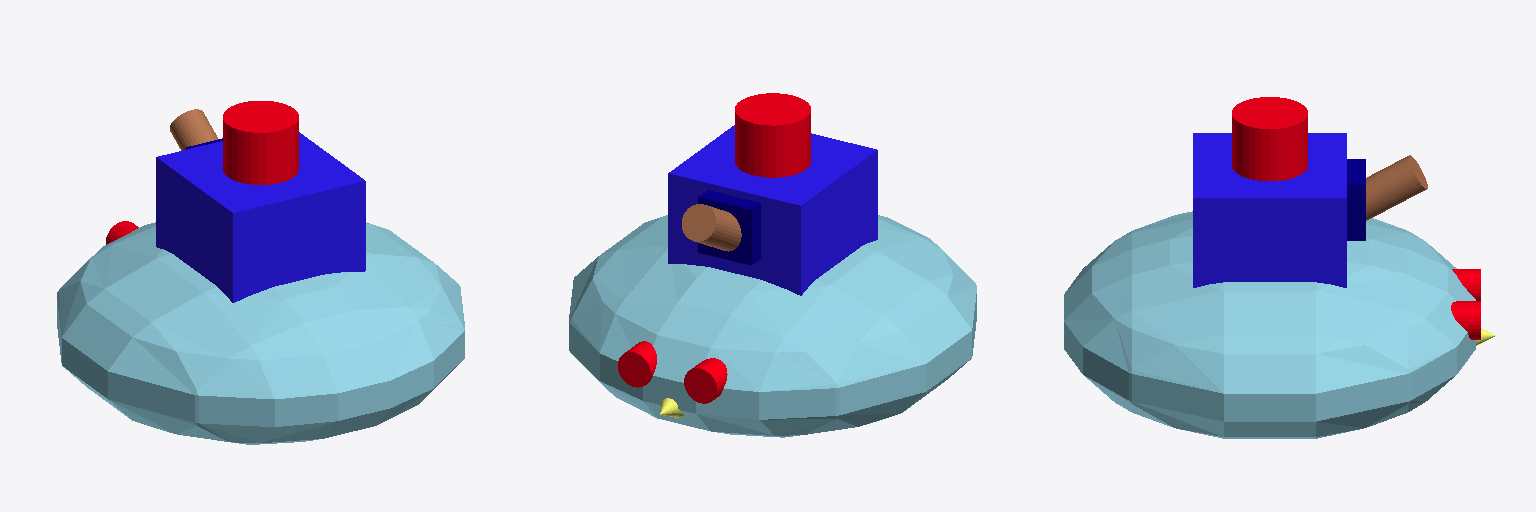
The picture shows the model from 3 angles: view 1: azimuth 30°, elevation 25°; view 2: azimuth 150°, elevation 25°; view 3: azimuth 270°, elevation 25°; orthographic projection.
Visible parts, largest first — view 1: Mball_Mball.008, 立方體_立方體.010, 圓柱體_圓柱體.002, 圓柱體.001_圓柱體.003; view 2: Mball_Mball.008, 立方體_立方體.010, 圓柱體_圓柱體.002, 立方體.001_立方體.011, 圓柱體.001_圓柱體.003, 圓柱體.003_圓柱體.005, 圓柱體.002_圓柱體.004; view 3: Mball_Mball.008, 立方體_立方體.010, 圓柱體_圓柱體.002, 圓柱體.001_圓柱體.003, 立方體.001_立方體.011, 圓柱體.002_圓柱體.004, 圓柱體.003_圓柱體.005.
Boxes of the visible parts, x1=… form: Mball_Mball.008: x1=57, y1=222, x2=464, y2=444; 立方體_立方體.010: x1=156, y1=132, x2=365, y2=302; 圓柱體_圓柱體.002: x1=223, y1=101, x2=298, y2=184; 圓柱體.001_圓柱體.003: x1=170, y1=109, x2=217, y2=150; Mball_Mball.008: x1=569, y1=215, x2=976, y2=437; 立方體_立方體.010: x1=668, y1=125, x2=877, y2=295; 圓柱體_圓柱體.002: x1=735, y1=93, x2=810, y2=177; 立方體.001_立方體.011: x1=698, y1=190, x2=760, y2=265; 圓柱體.001_圓柱體.003: x1=682, y1=204, x2=741, y2=251; 圓柱體.003_圓柱體.005: x1=684, y1=358, x2=727, y2=403; 圓柱體.002_圓柱體.004: x1=618, y1=341, x2=656, y2=387; Mball_Mball.008: x1=1064, y1=211, x2=1475, y2=438; 立方體_立方體.010: x1=1193, y1=133, x2=1346, y2=287; 圓柱體_圓柱體.002: x1=1232, y1=97, x2=1307, y2=180; 圓柱體.001_圓柱體.003: x1=1366, y1=155, x2=1427, y2=220; 立方體.001_立方體.011: x1=1347, y1=159, x2=1365, y2=240; 圓柱體.002_圓柱體.004: x1=1451, y1=301, x2=1480, y2=339; 圓柱體.003_圓柱體.005: x1=1452, y1=269, x2=1480, y2=300.
Size of the model in its own units: 63.65 by 49.32 by 67.66.
8 materials, 6 textured.